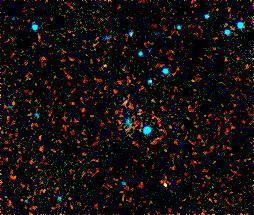star: (148, 167, 178, 197)
